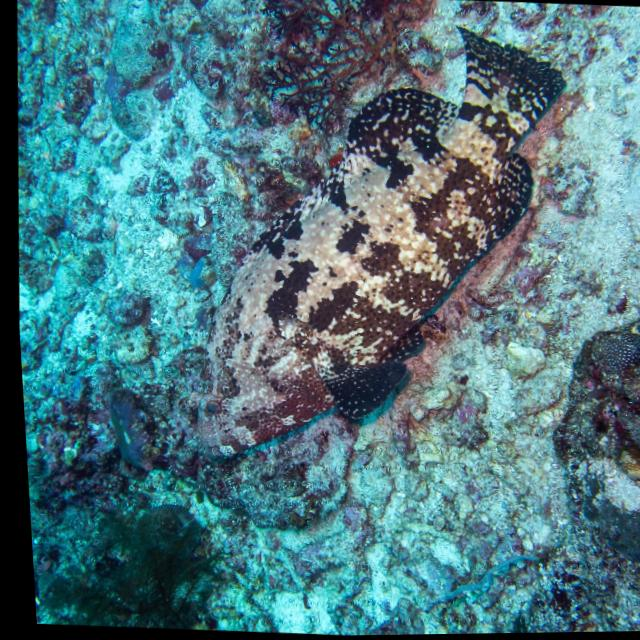Groupers: (170, 10, 593, 476)
